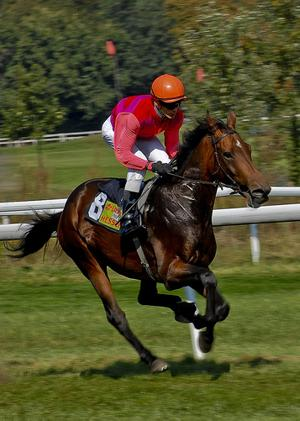person: (102, 71, 186, 243)
